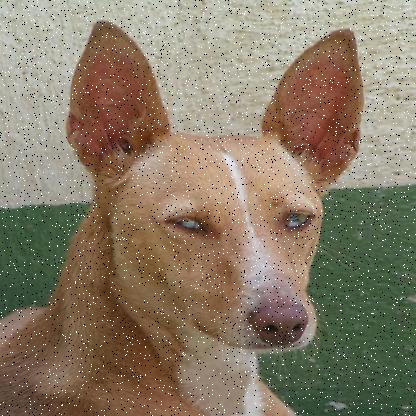dog: (53, 12, 372, 415)
